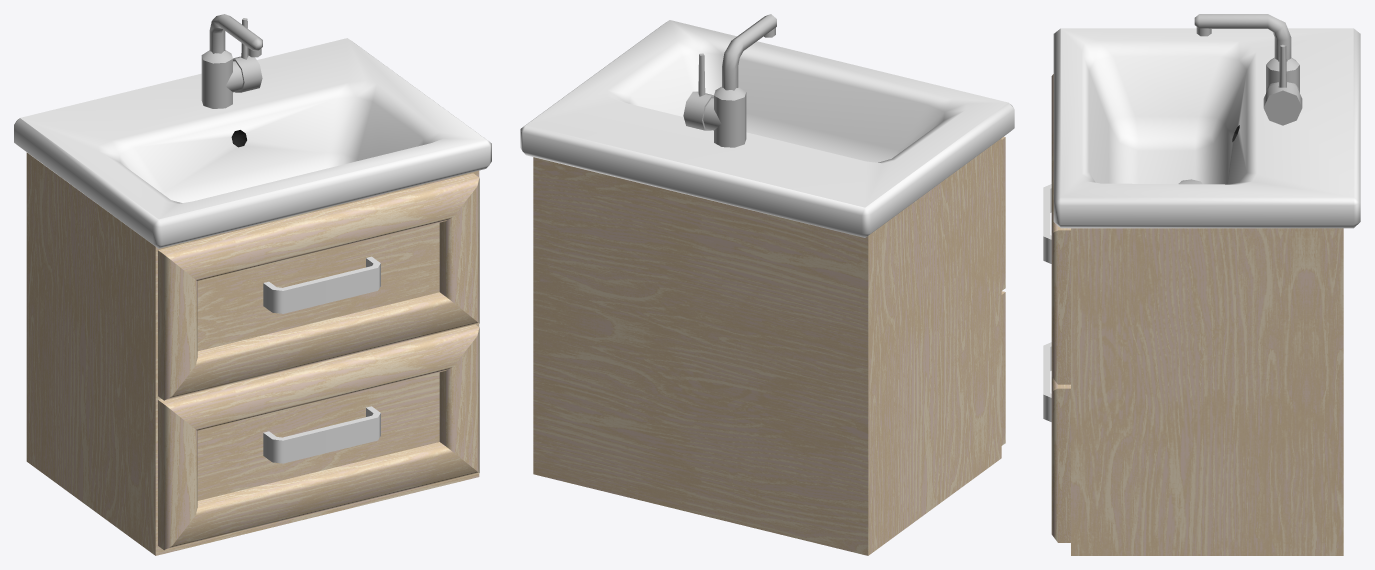
Rendered from bathroom_031.fbx.
The picture shows the model from 3 angles, left to right: view 1: azimuth 30°, elevation 25°; view 2: azimuth 150°, elevation 25°; view 3: azimuth 270°, elevation 25°; orthographic projection. The views are drawn at different scales.
Visible parts, largest first — view 1: bathroom_031; view 2: bathroom_031; view 3: bathroom_031.
Boxes of the visible parts, left/top/right/bottom form: bathroom_031: left=14, top=14, right=491, bottom=555; bathroom_031: left=520, top=14, right=1014, bottom=555; bathroom_031: left=1043, top=14, right=1360, bottom=555.
Bounding box in the file's own units: 80.64 × 61.94 × 98.71.
